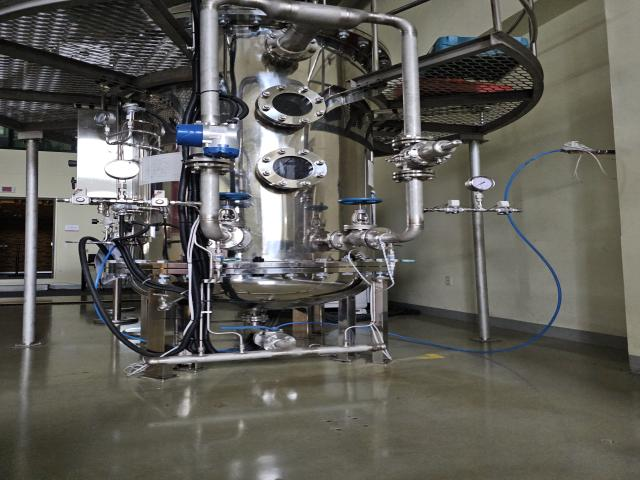Flange: (255, 148, 327, 191), (256, 83, 326, 127)
Flush Ring: (266, 27, 320, 61), (197, 224, 245, 249), (184, 157, 236, 175), (361, 227, 397, 249), (262, 332, 297, 354), (330, 230, 366, 251), (390, 136, 439, 150), (392, 170, 437, 183)
GasRegulator: (94, 102, 162, 154)
Nuts: (66, 194, 95, 206), (147, 195, 172, 208), (492, 206, 516, 216), (442, 206, 464, 214)
Piston Valve: (338, 197, 383, 230), (218, 191, 252, 229)
Pressure Gage: (104, 159, 141, 201), (464, 175, 496, 209)
